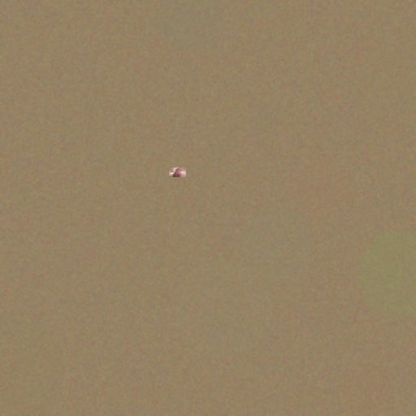sprouted: (169, 167, 186, 177)
